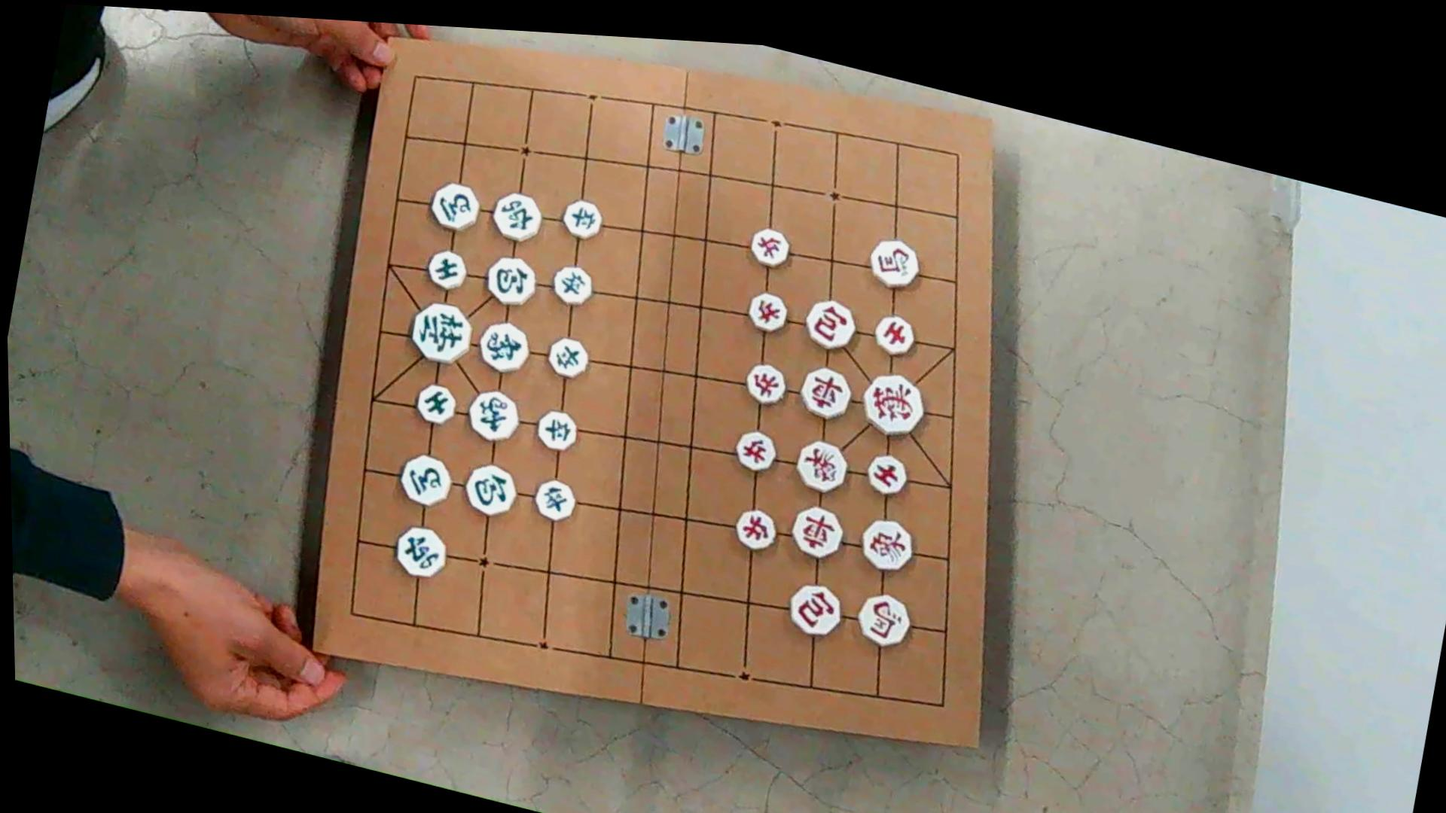cha_green: (392, 522, 450, 582), (489, 187, 545, 248)
cha_red: (788, 502, 847, 563), (798, 363, 855, 424)
jol_green: (531, 475, 578, 525), (545, 334, 591, 381), (535, 406, 580, 454), (550, 263, 596, 309), (560, 196, 605, 243)
jol_red: (732, 506, 779, 554), (743, 361, 789, 409), (733, 428, 779, 476), (746, 290, 790, 336), (748, 225, 792, 270)
ma_green: (397, 450, 455, 510), (428, 178, 484, 236)
ma_red: (856, 589, 914, 651), (865, 235, 923, 294)
po_green: (461, 460, 519, 520), (483, 253, 539, 310)
po_red: (786, 580, 844, 641), (801, 297, 859, 355)
sa_green: (414, 380, 458, 428), (424, 247, 468, 294)
sa_red: (865, 450, 910, 500), (872, 312, 917, 359)
sang_green: (465, 385, 522, 447), (475, 317, 532, 378)
sang_red: (859, 515, 917, 577), (793, 437, 851, 497)
wang_green: (407, 297, 476, 368)
wang_red: (859, 367, 929, 442)
